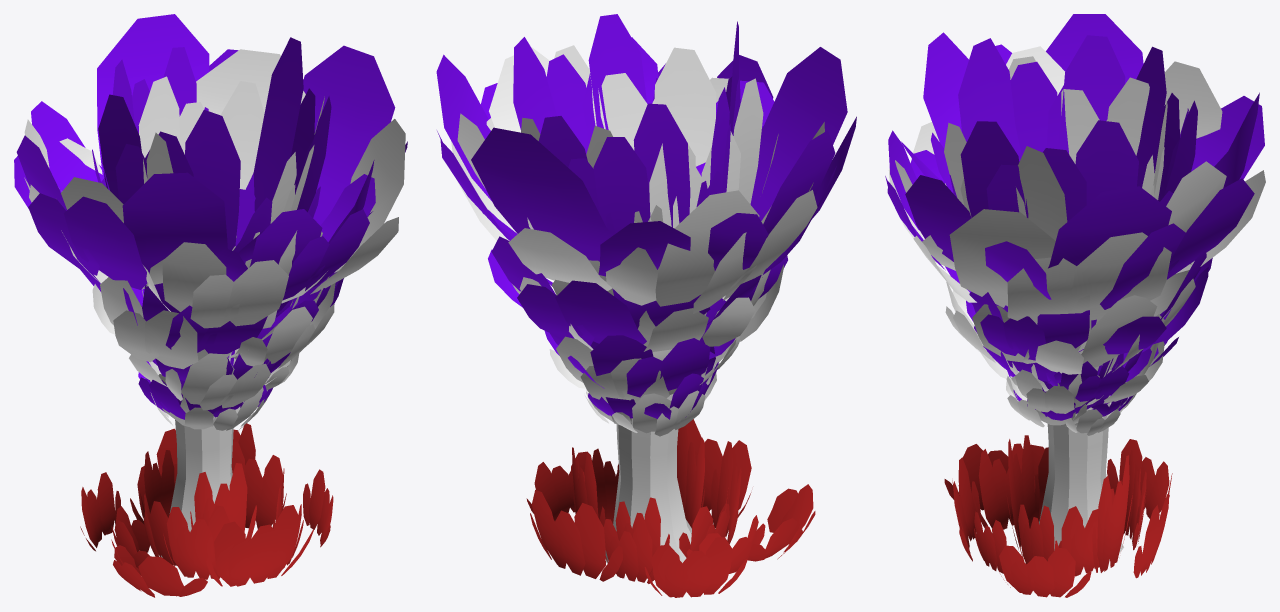
File: tree_withGrass01.fbx
3 renders of one model, left to right at view 1: azimuth 30°, elevation 25°; view 2: azimuth 150°, elevation 25°; view 3: azimuth 270°, elevation 25°, orthographic. The views are drawn at different scales.
Parts seen in each view (by area): view 1: tree_leaves, tree_leaves.001, grassPile.002, grassPile.003, grassPile.001, tree01; view 2: tree_leaves, tree_leaves.001, grassPile.002, grassPile.001, tree01, grassPile.003; view 3: tree_leaves, tree_leaves.001, grassPile.002, grassPile.001, grassPile.003, tree01.
Part boxes in pixels (x1,y1,x2,y2): tree_leaves: (14, 14, 407, 419); tree_leaves.001: (24, 49, 405, 431); grassPile.002: (80, 428, 333, 597); grassPile.003: (111, 441, 303, 579); grassPile.001: (140, 423, 284, 565); tree01: (161, 236, 236, 557); tree_leaves: (436, 14, 856, 419); tree_leaves.001: (451, 45, 824, 436); grassPile.002: (526, 419, 815, 597); grassPile.001: (572, 425, 729, 578); tree01: (605, 394, 691, 563); grassPile.003: (577, 441, 765, 583); tree_leaves: (885, 14, 1264, 420); tree_leaves.001: (888, 46, 1265, 435); grassPile.002: (944, 439, 1172, 597); grassPile.001: (1006, 435, 1140, 572); grassPile.003: (972, 443, 1146, 576); tree01: (1039, 369, 1123, 559).
Bounding box in the file's own units: 272 × 356 × 250.
